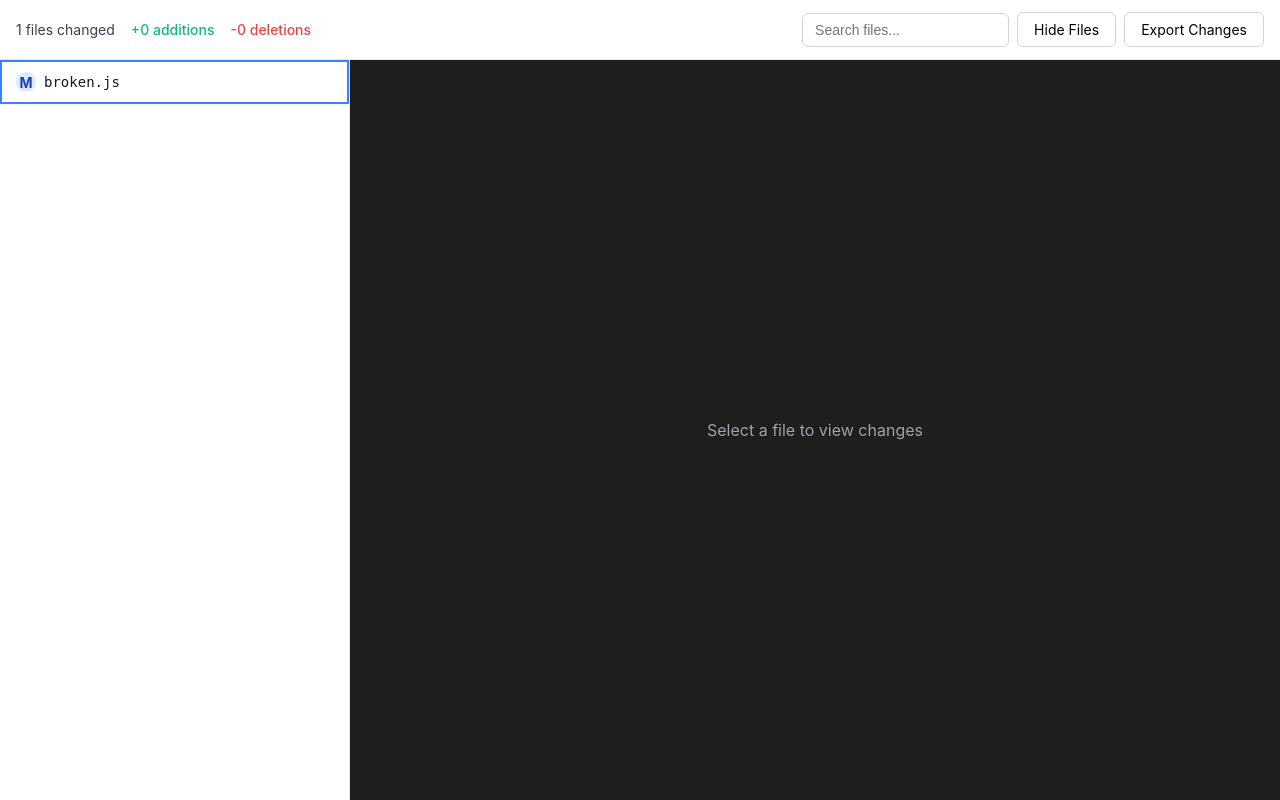
Test: CodeChangesView › Error Handling › handles files with missing content
Click the text "broken.js": (82, 82) [44,74,120,90]
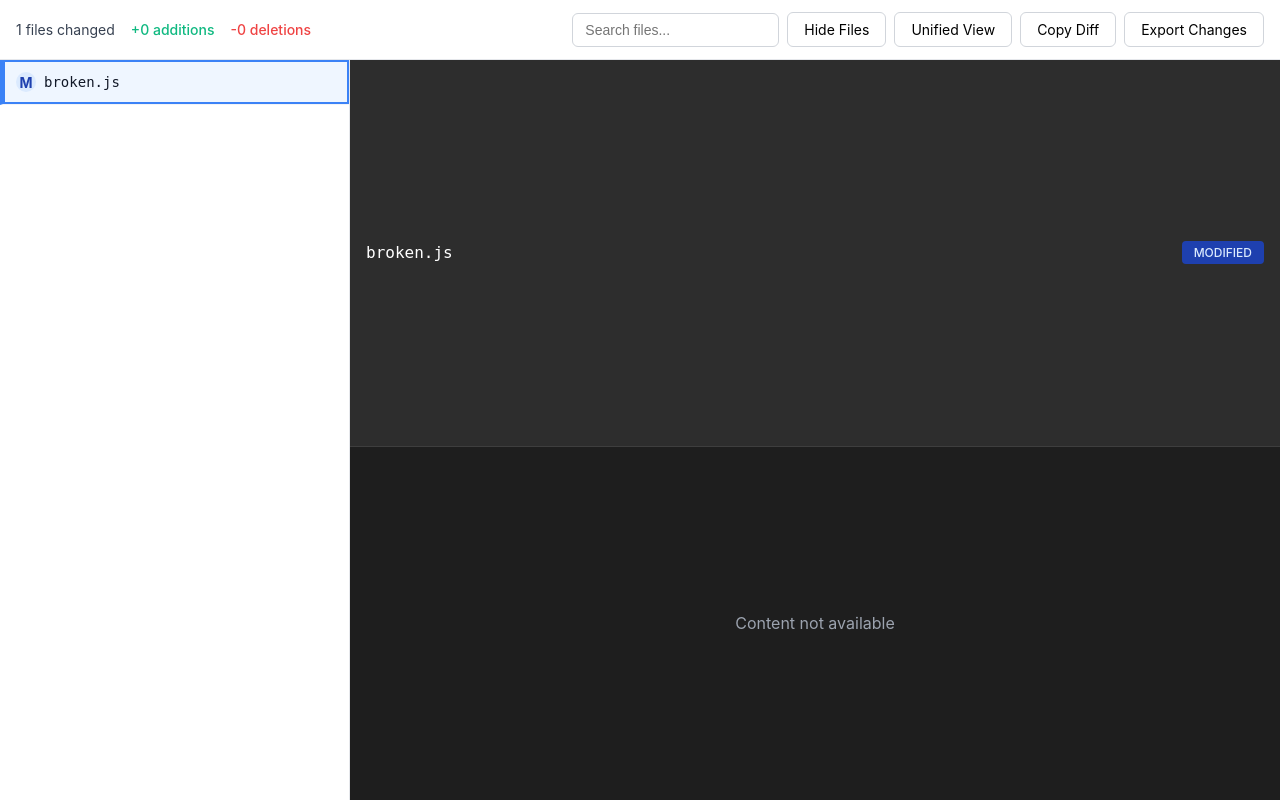
Expected: the text "Content not available" is shown, [735,613,895,633]
